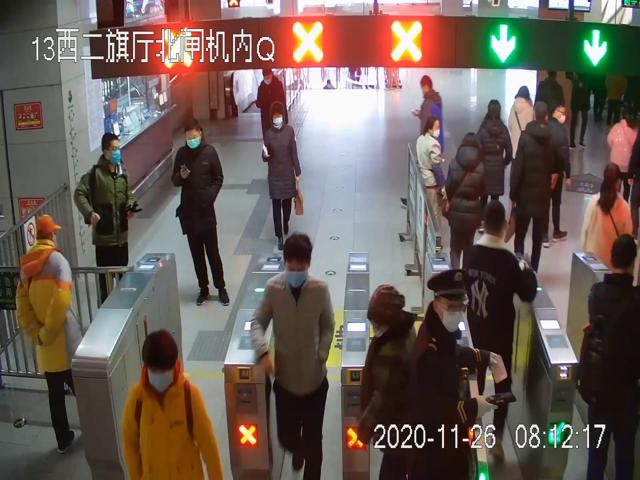person: (250, 234, 333, 480), (15, 216, 91, 455), (172, 117, 233, 305), (74, 135, 137, 308), (512, 99, 556, 279), (259, 104, 304, 253)
